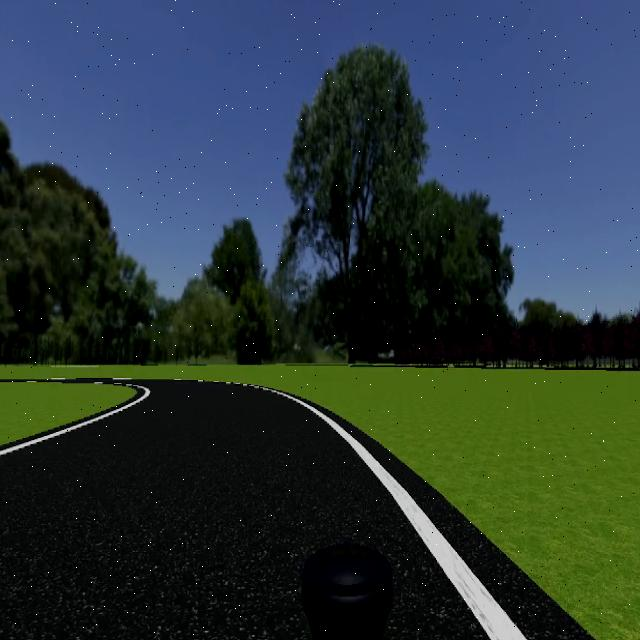road: (0, 384, 487, 640)
solid_line: (268, 390, 527, 640), (0, 388, 150, 458)
